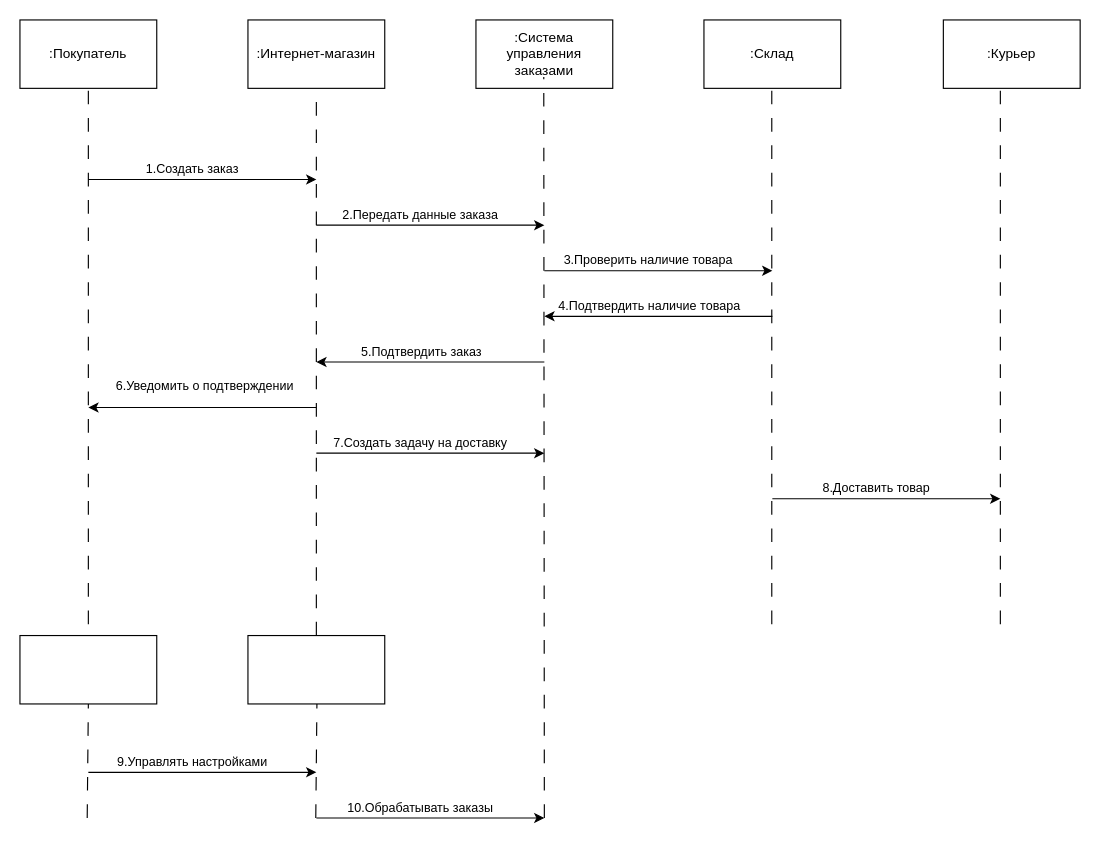
Some shapes in this 1100 by 847 pixel diagram are drawn without their labels. The shapes that lost their labels are listed below. From the top down, each one's box as (x1, y1, x2, y2) in pixels, then its label:
(19, 634, 157, 704): :Администратор
(247, 634, 385, 704): :Менеджер
